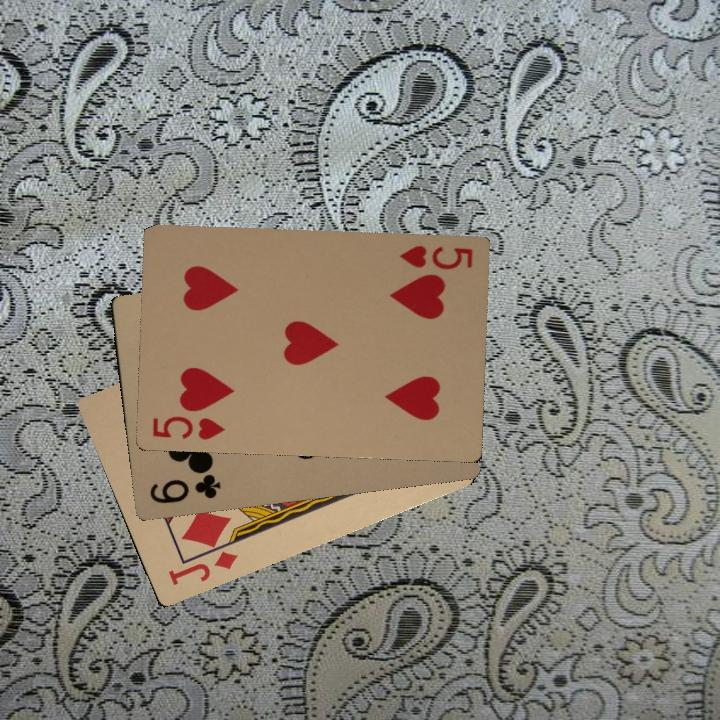5h: (395, 241, 475, 272), (148, 412, 227, 442)
6c: (146, 468, 223, 506)
Jd: (164, 546, 239, 588)
